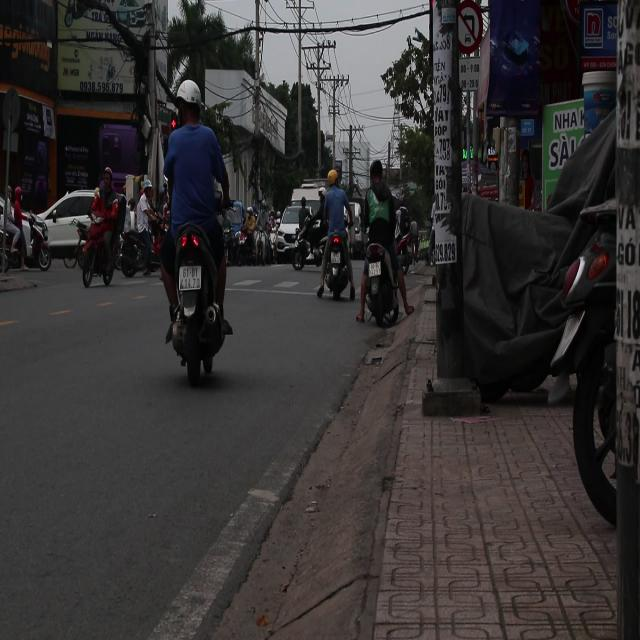car: (38, 190, 100, 267), (276, 203, 313, 259)
motorbike: (170, 208, 224, 390), (366, 230, 404, 340), (1, 190, 50, 273), (84, 212, 118, 298), (321, 225, 351, 309), (117, 223, 156, 280), (292, 218, 322, 270), (1, 213, 23, 276)
